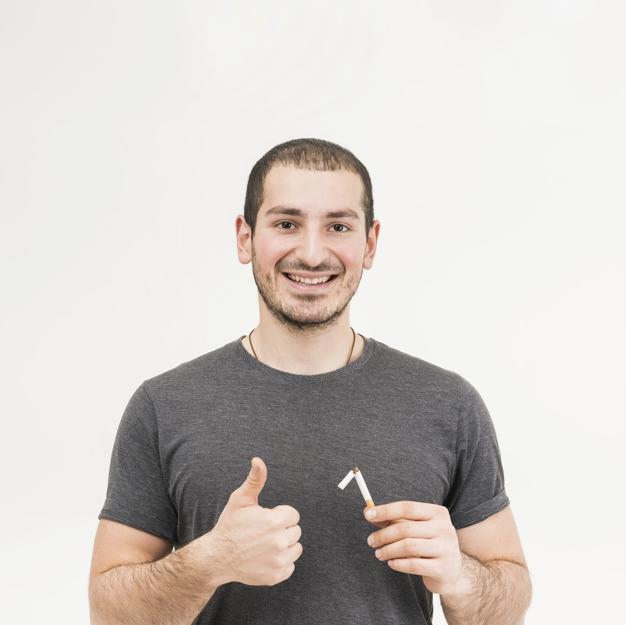thumbsup: (239, 456, 303, 585)
